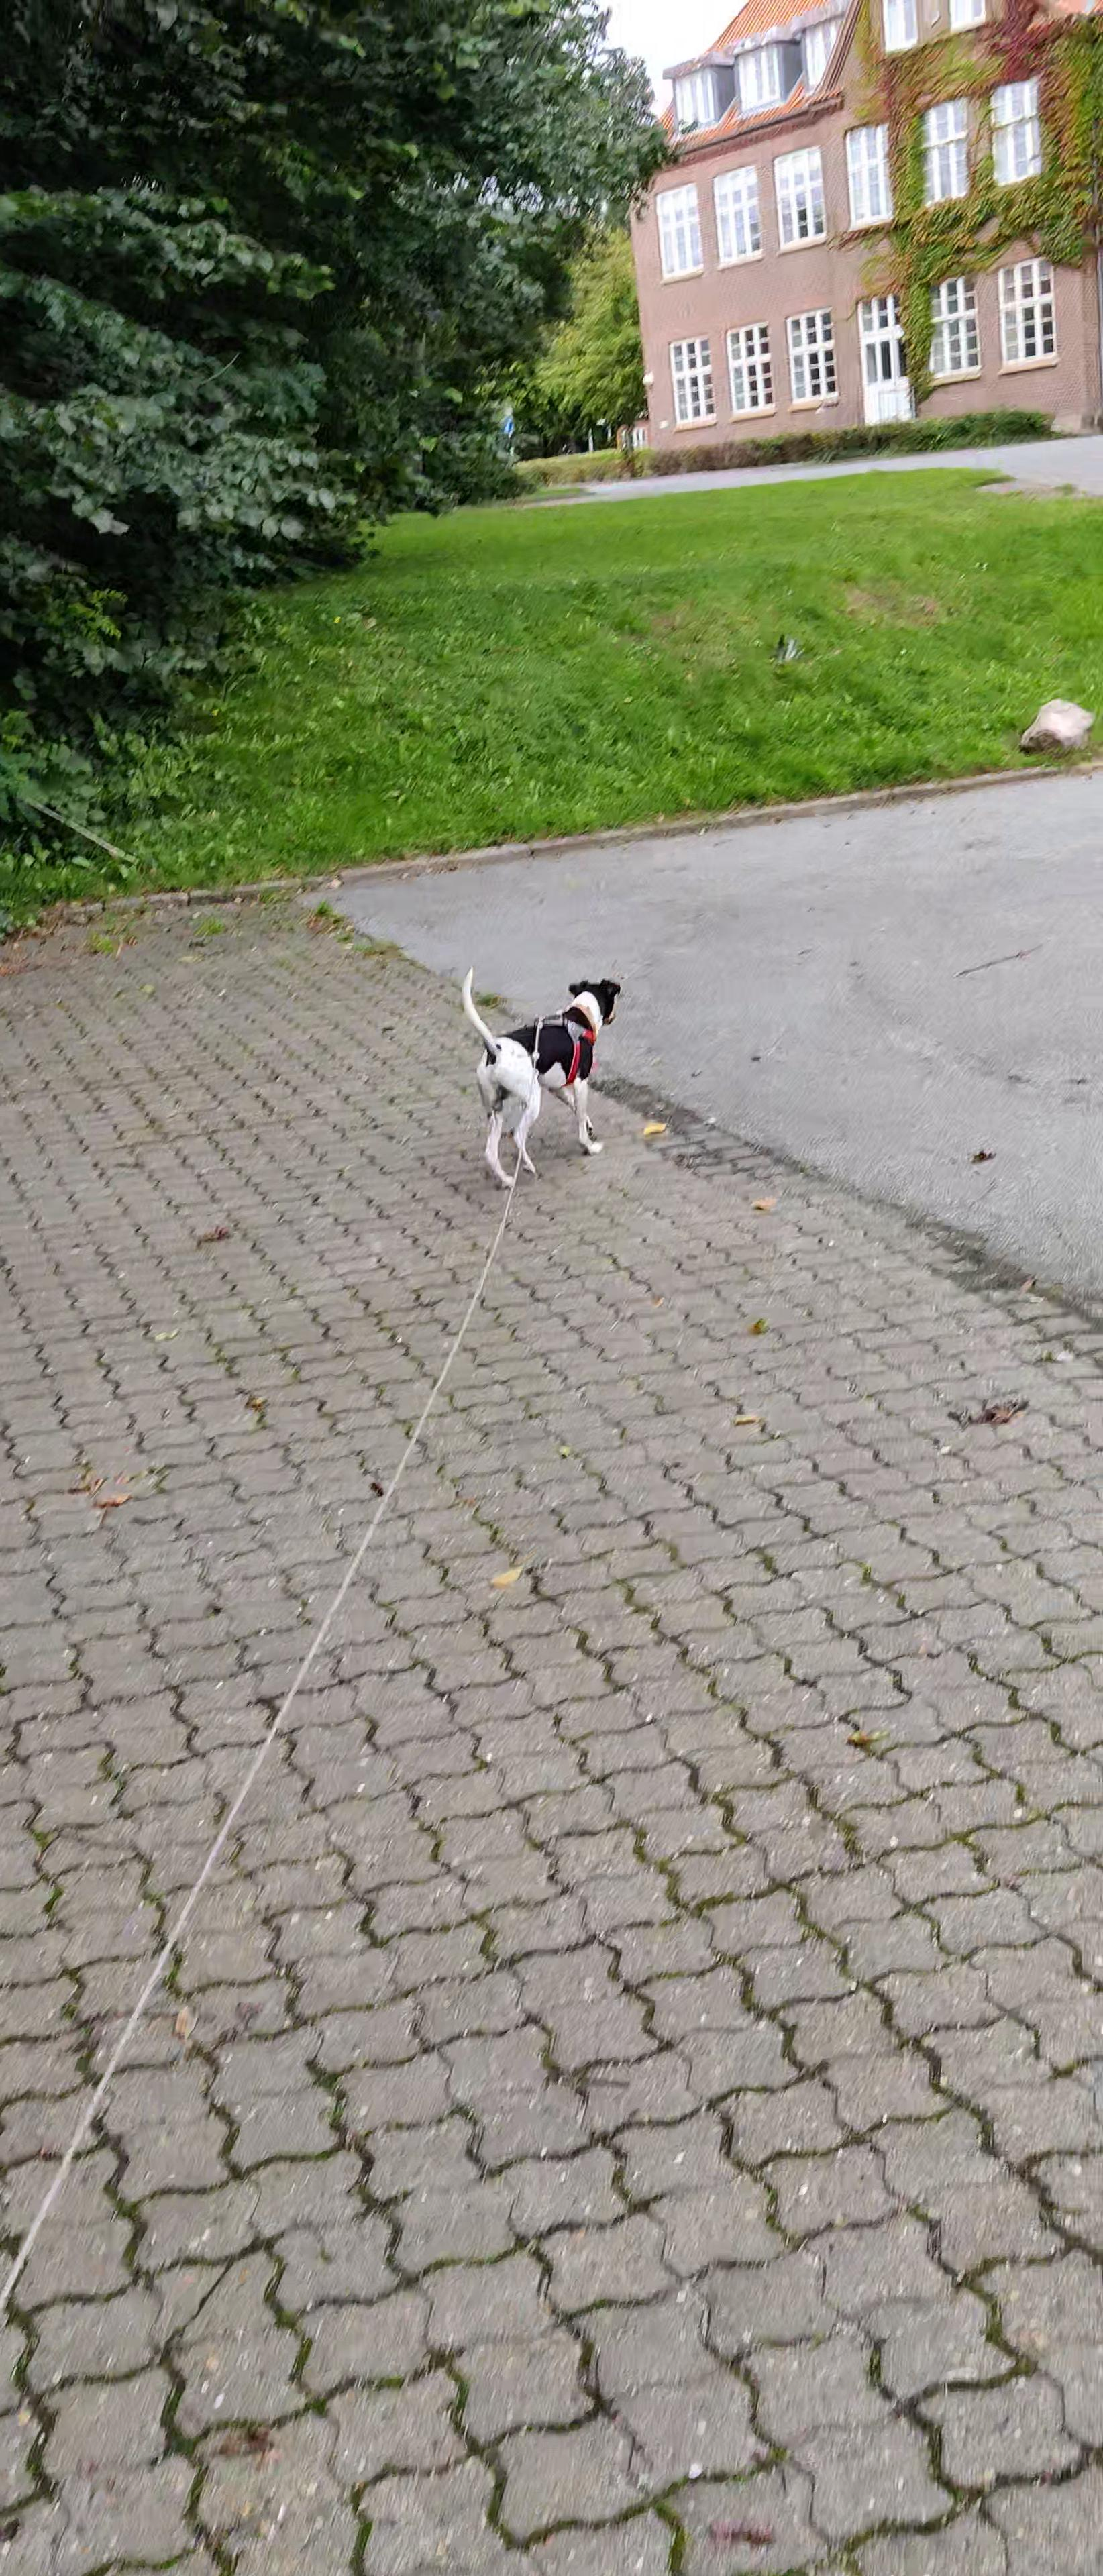Dog: (457, 964, 628, 1193)
